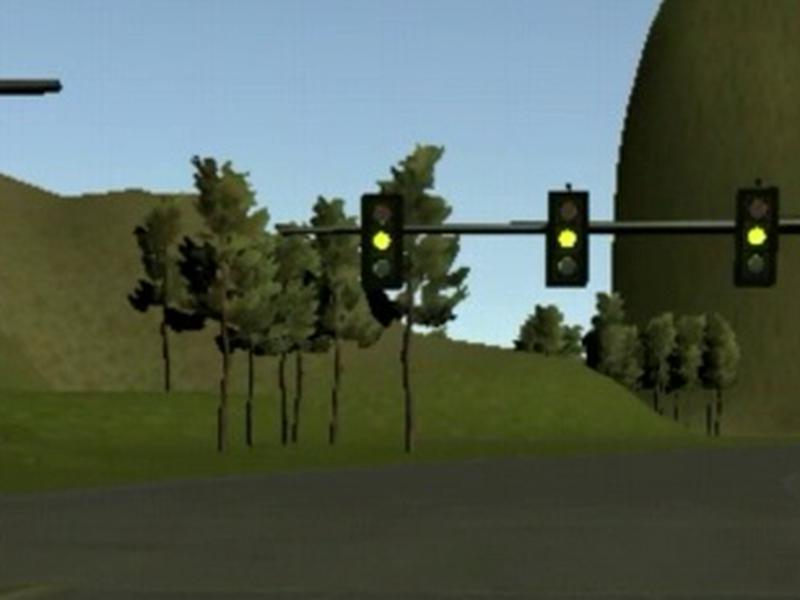Yellow: (734, 186, 779, 288), (545, 189, 589, 288), (361, 193, 402, 289)
